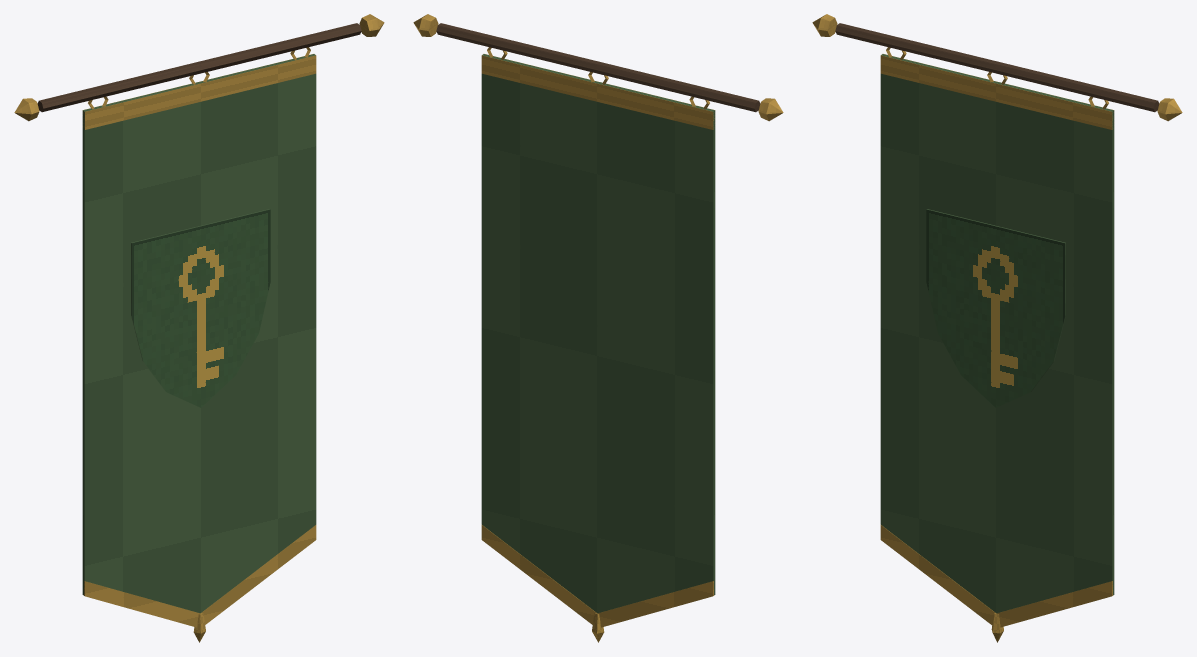
Rendered from heraldic-banner-c.glb.
3 views of the same model, side by side, from view 1: azimuth 30°, elevation 25°; view 2: azimuth 150°, elevation 25°; view 3: azimuth 330°, elevation 25° (orthographic).
Parts seen in each view (by area): view 1: heraldic-banner-c.001; view 2: heraldic-banner-c.001; view 3: heraldic-banner-c.001.
Boxes of the visible parts, box(x1,y1,x2,y2) form: heraldic-banner-c.001: box(14, 14, 384, 642); heraldic-banner-c.001: box(413, 14, 783, 642); heraldic-banner-c.001: box(812, 14, 1182, 642).
Bounding box in the file's own units: 1.28 × 1.93 × 0.07.
1 material, 1 textured.
